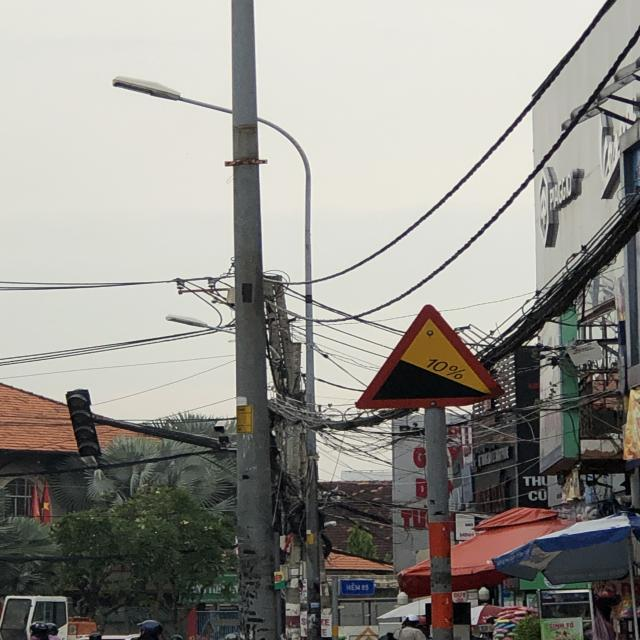Bien bao doc xuong nguy hiem: (352, 297, 513, 415)
